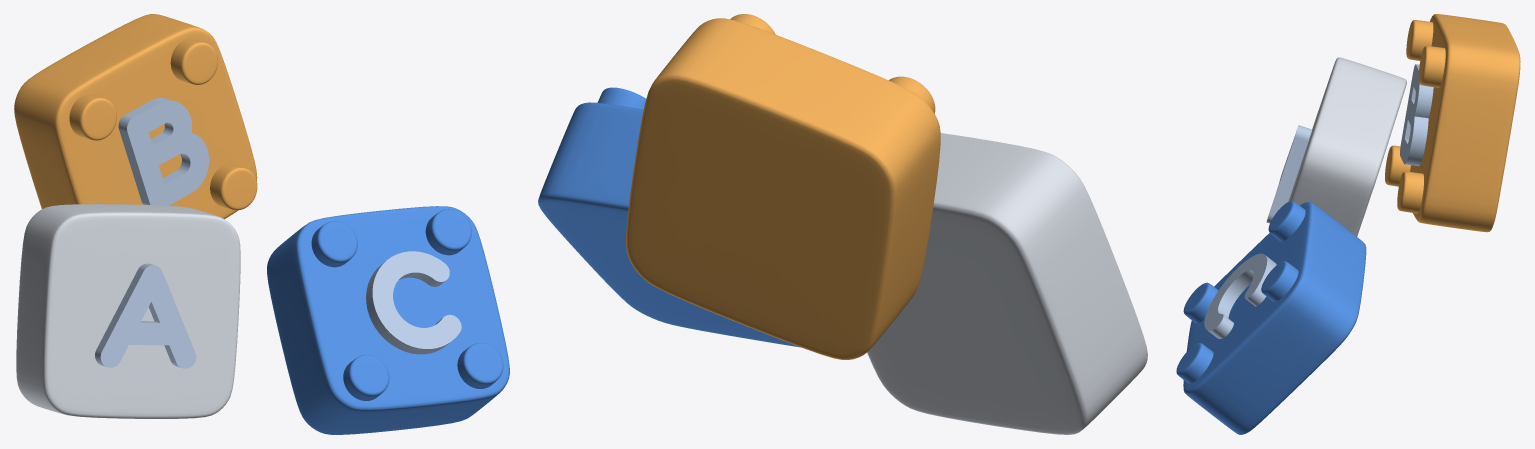
File: ABC Blocks.fbx
The picture shows the model from 3 angles, left to right: view 1: azimuth 30°, elevation 25°; view 2: azimuth 150°, elevation 25°; view 3: azimuth 270°, elevation 25°; orthographic projection. The views are drawn at different scales.
Parts seen in each view (by area): view 1: Cube, Cube.002, Cube.001, rect5, Cylinder.002, path3, Cylinder.001, path7; view 2: Cube.001, Cube, Cube.002, Cylinder.001, Cylinder.002; view 3: Cube.002, Cube.001, Cube, Cylinder.002, Cylinder.001, path7, rect5, path3.
Part boxes in pixels (bbox=[...]): Cube: bbox=[16, 204, 240, 418]; Cube.002: bbox=[267, 206, 509, 434]; Cube.001: bbox=[14, 14, 257, 218]; rect5: bbox=[118, 98, 209, 205]; Cylinder.002: bbox=[311, 209, 503, 400]; path3: bbox=[95, 263, 196, 368]; Cylinder.001: bbox=[69, 38, 257, 210]; path7: bbox=[366, 251, 461, 354]; Cube.001: bbox=[626, 18, 940, 359]; Cube: bbox=[867, 133, 1147, 434]; Cube.002: bbox=[538, 102, 800, 347]; Cylinder.001: bbox=[730, 14, 935, 113]; Cylinder.002: bbox=[597, 87, 646, 109]; Cube.002: bbox=[1183, 202, 1366, 434]; Cube.001: bbox=[1410, 14, 1520, 232]; Cube: bbox=[1288, 57, 1406, 236]; Cylinder.002: bbox=[1176, 201, 1305, 383]; Cylinder.001: bbox=[1385, 20, 1445, 213]; path7: bbox=[1204, 253, 1276, 338]; rect5: bbox=[1400, 64, 1433, 166]; path3: bbox=[1266, 125, 1311, 223].
Size of the model in its own units: 377 by 294 by 289.
